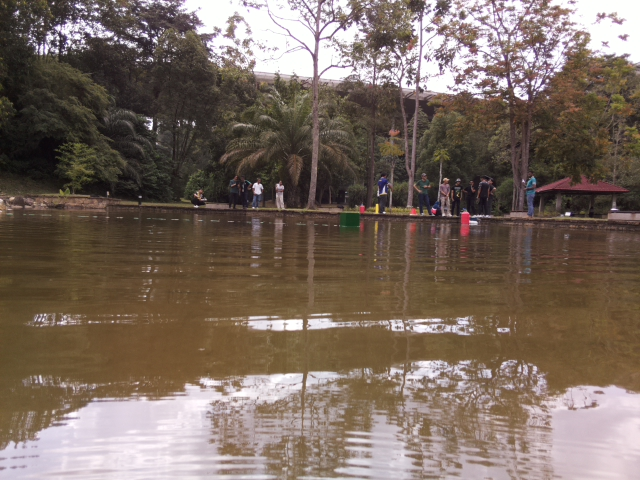obstacle: (336, 212, 361, 230)
